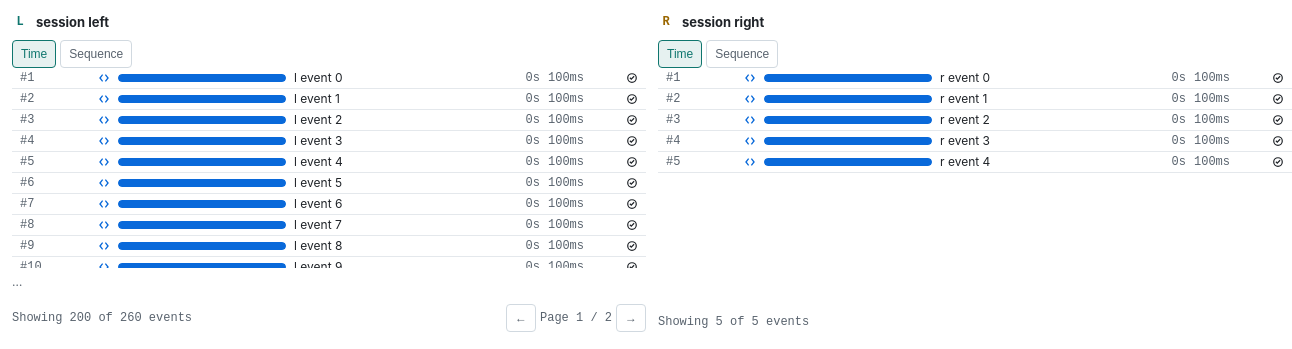
Test: REQ-115 Compare Timeline 无硬上限 › FPS 不达标回退分页：每页 200 + 翻页按钮
Check: the element with class "compare-timeline-pager" shows "Page 1 / 2", box [540,311,612,325]
Click the button "→" at {"x": 631, "y": 318}, box [616,304,646,332]
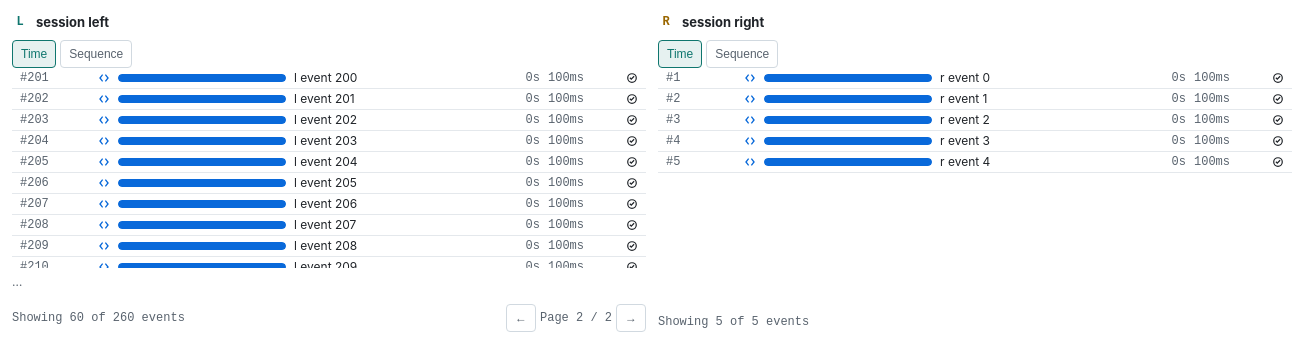
Check: the text with class "compare-timeline-count" reads "Showing 60 of 260 events", box [12,311,185,325]
